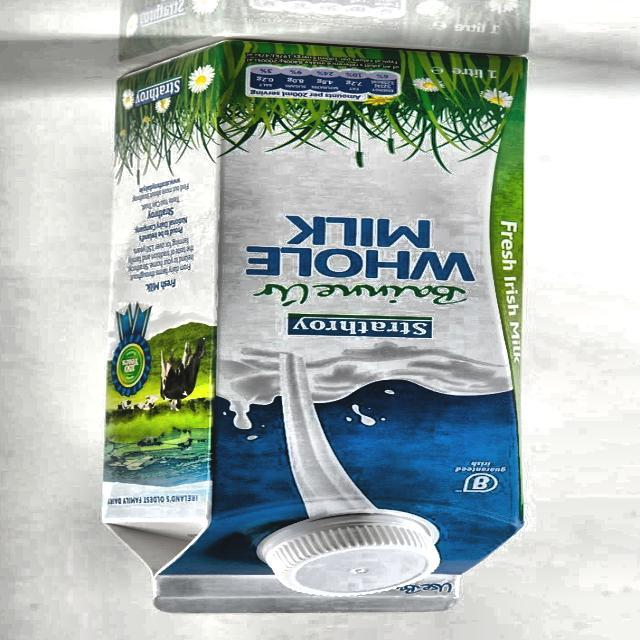cardboard: (101, 41, 529, 614)
